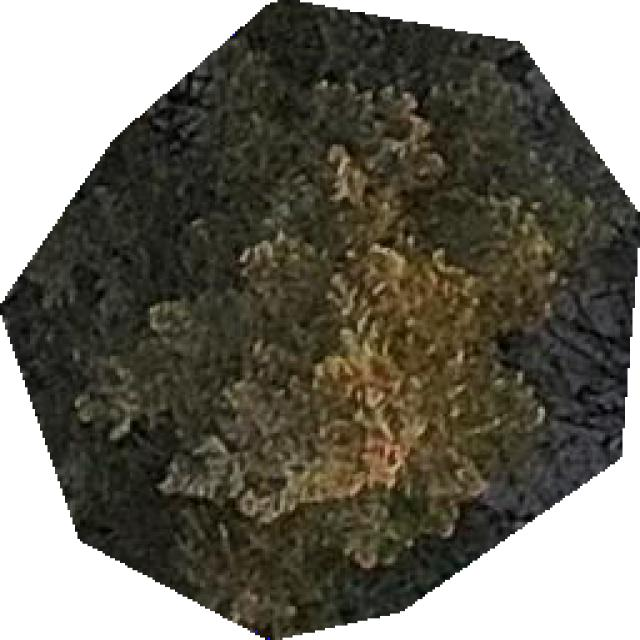spruce: (0, 0, 638, 638)
